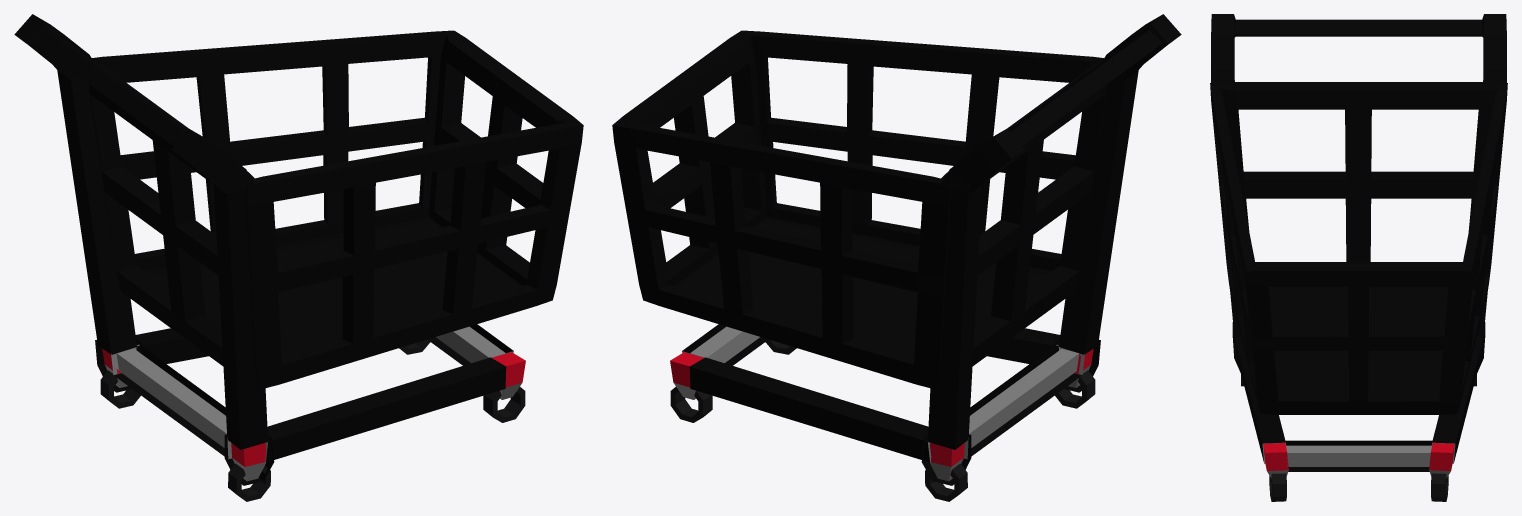
The model's file is Cart.fbx.
3 views of the same model, side by side, from view 1: azimuth 30°, elevation 25°; view 2: azimuth 150°, elevation 25°; view 3: azimuth 270°, elevation 25° (orthographic). The views are drawn at different scales.
Visible parts, largest first — view 1: Cart, Tires; view 2: Cart, Tires; view 3: Cart, Tires.
Part boxes in pixels (x1,y1,x2,y2): Cart: (14,14,583,485); Tires: (100,339,525,501); Cart: (612,14,1181,485); Tires: (670,339,1095,501); Cart: (1210,14,1507,478); Tires: (1240,373,1477,501).
Bounding box in the file's own units: 200 × 178 × 141.
